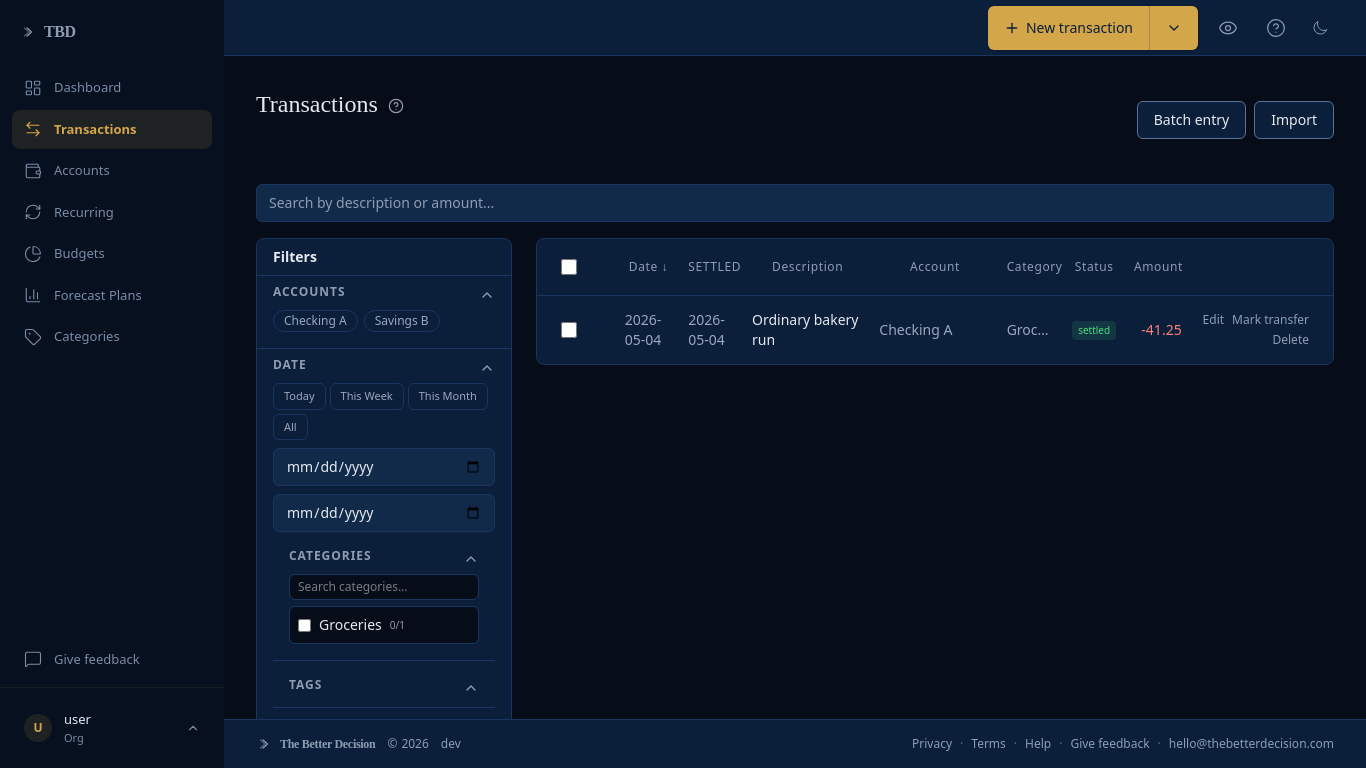
TBD-295 — 'Make recurring' on a linked row › IS still offered on an ordinary row, in BOTH slots (over-reach fence)
Click the button "Edit" at (1213, 320), box [1203, 312, 1224, 328]
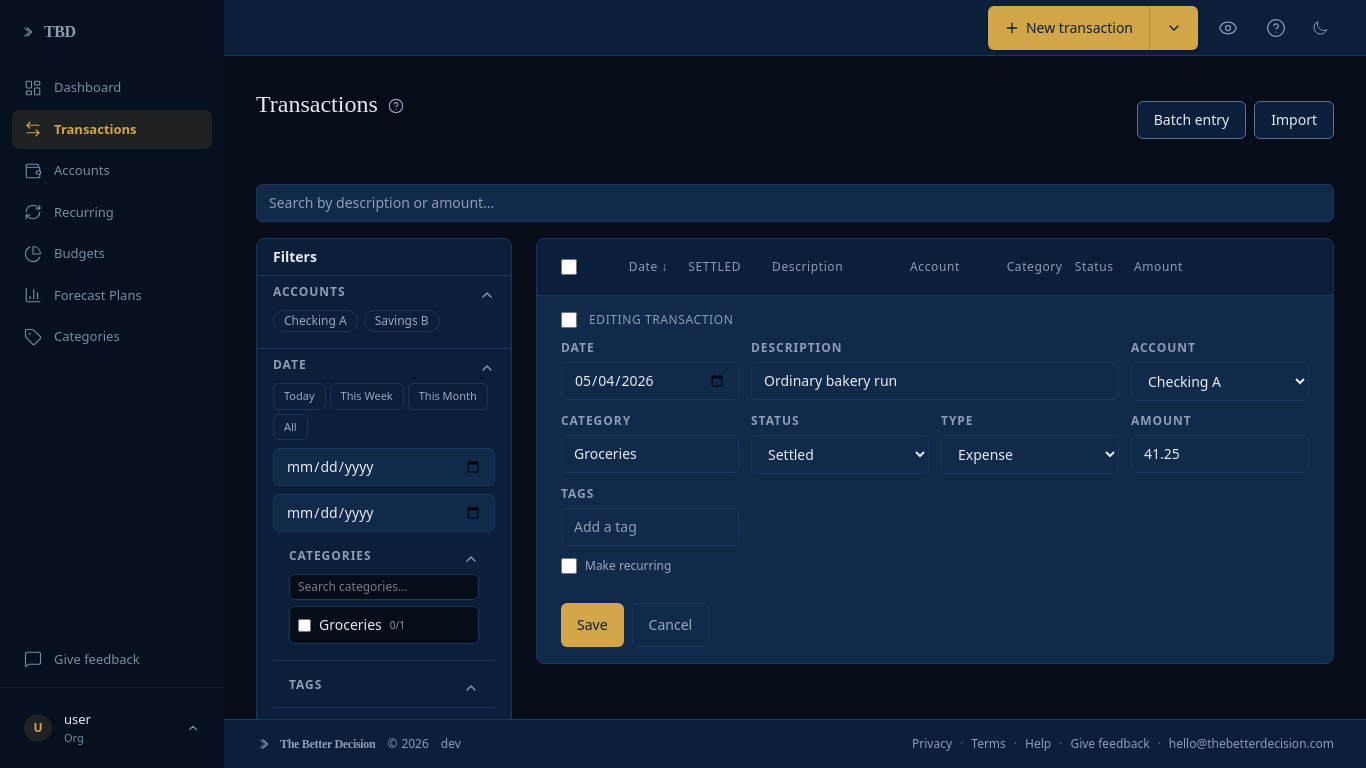
Expected: the number of checkboxes labelled "Make recurring" is 2
